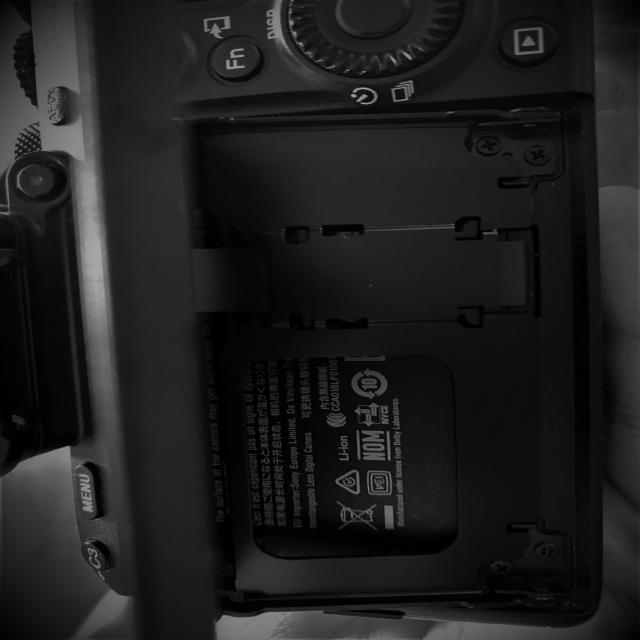PhillipsScrewHead: (522, 144, 552, 166), (475, 136, 502, 156), (535, 542, 558, 562), (488, 562, 516, 576)
